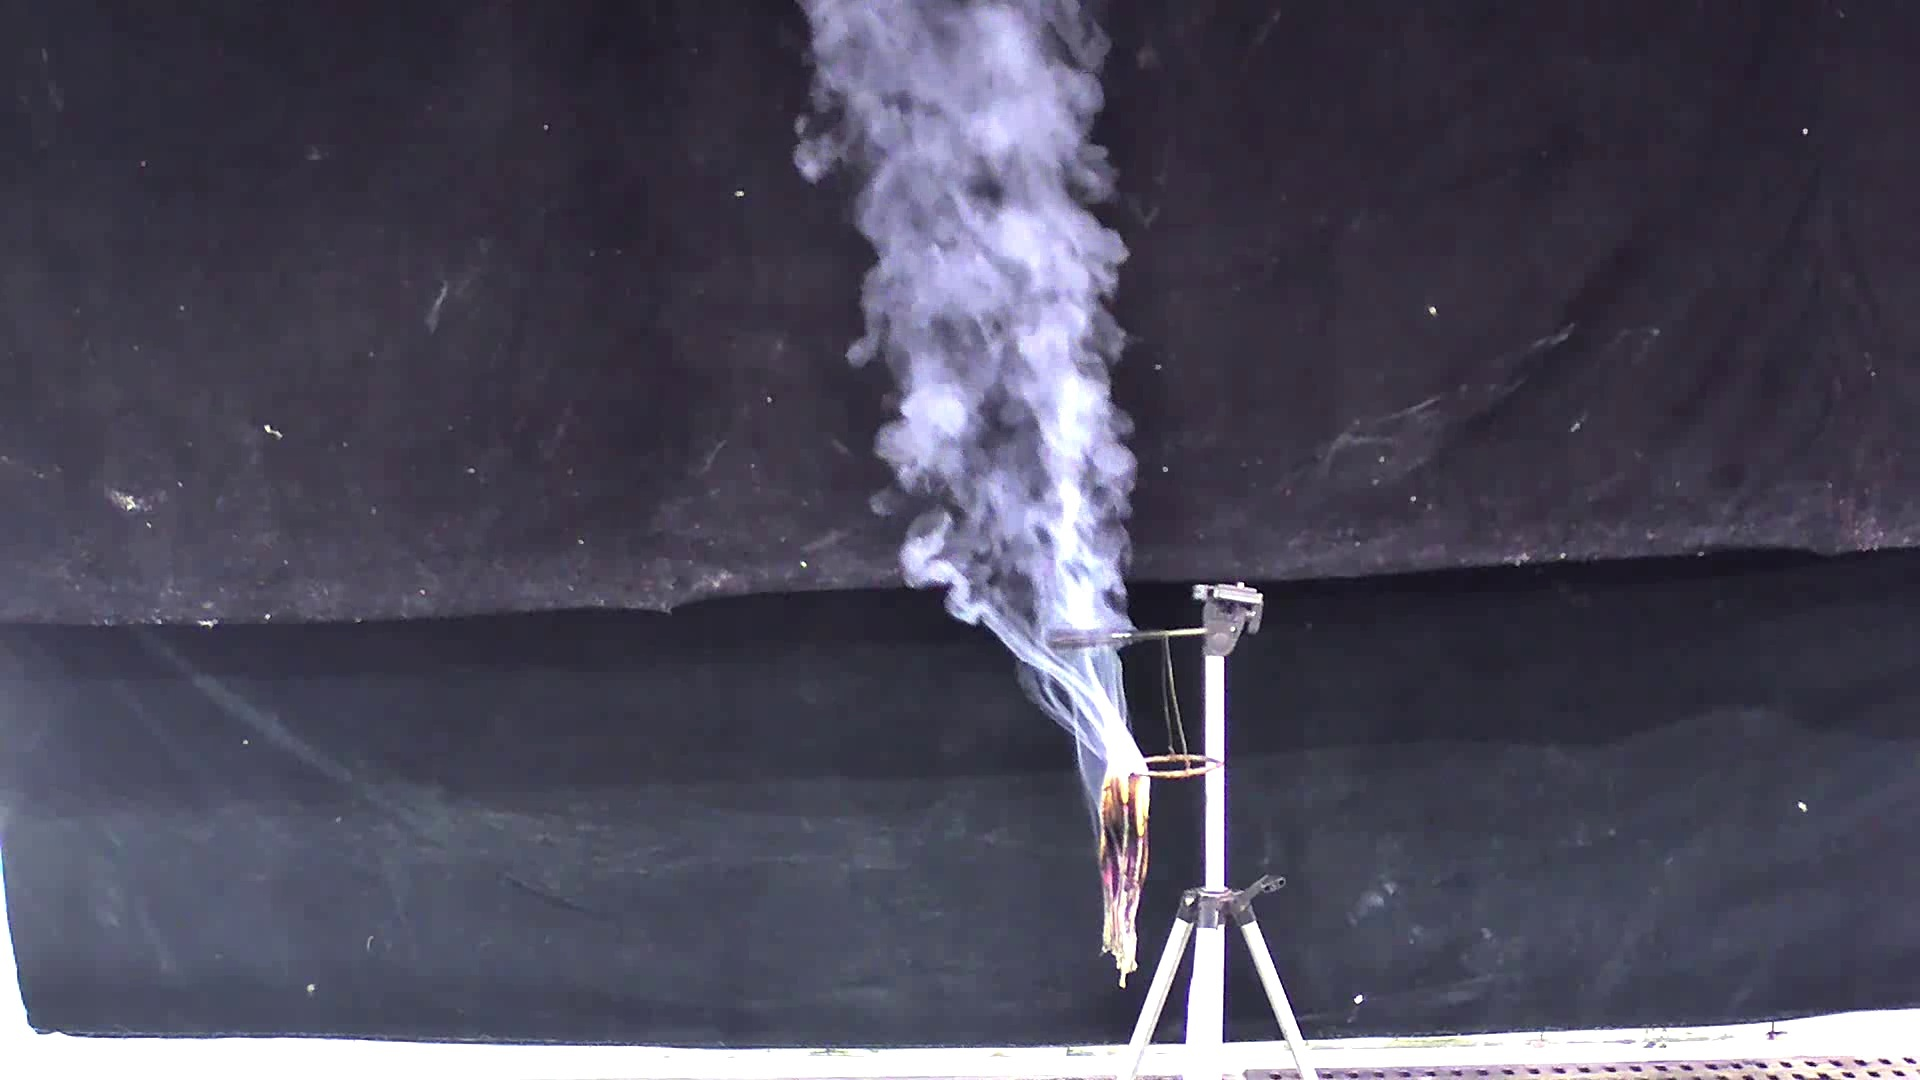smoke: (796, 3, 1164, 760)
